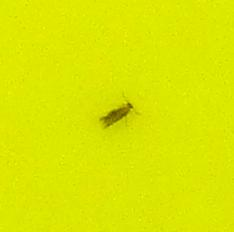Trichoptera: (100, 100, 134, 132)
